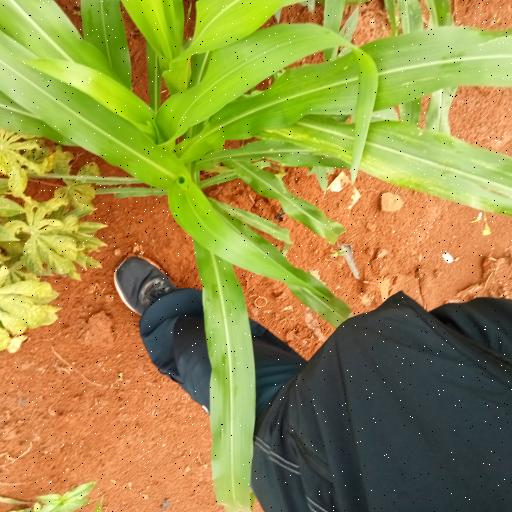Corn_Brown_Spots: (174, 23, 512, 207), (0, 0, 184, 167)
